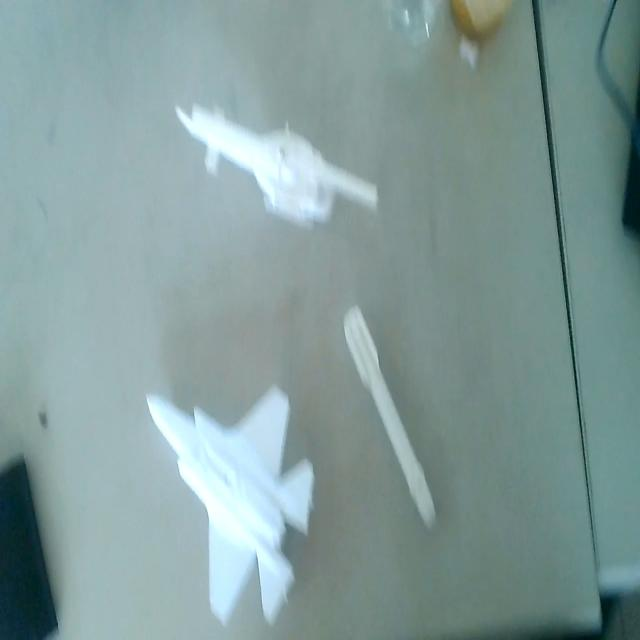Helicopter: (174, 96, 378, 242)
Jet: (142, 381, 318, 627)
Rocket: (342, 299, 439, 535)
